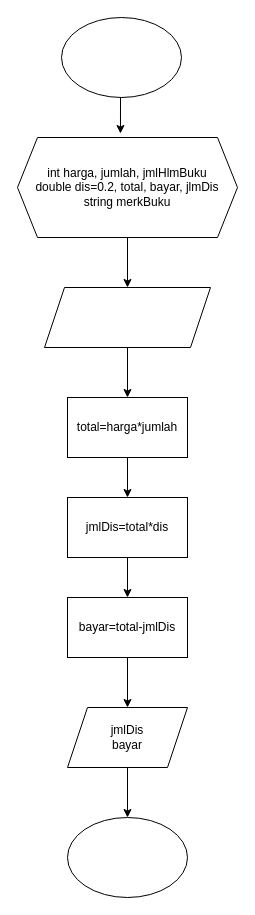
The diagram is 255 pixels wide and 915 high, and some of its shapes have lost their labels. The centre of each missing label's shape, as x and y in pixels:
"end" belongs at point (127, 857).
"merkBuku, jmlHlmBuku ,harga, jumlah" belongs at point (127, 317).
"start" belongs at point (121, 57).
